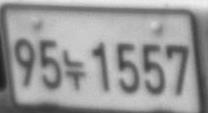1: (89, 41, 113, 92)
5: (115, 42, 140, 94), (141, 43, 165, 95), (38, 38, 62, 89)
7: (166, 44, 190, 95)
9: (13, 36, 35, 87)
누: (62, 49, 86, 91)
